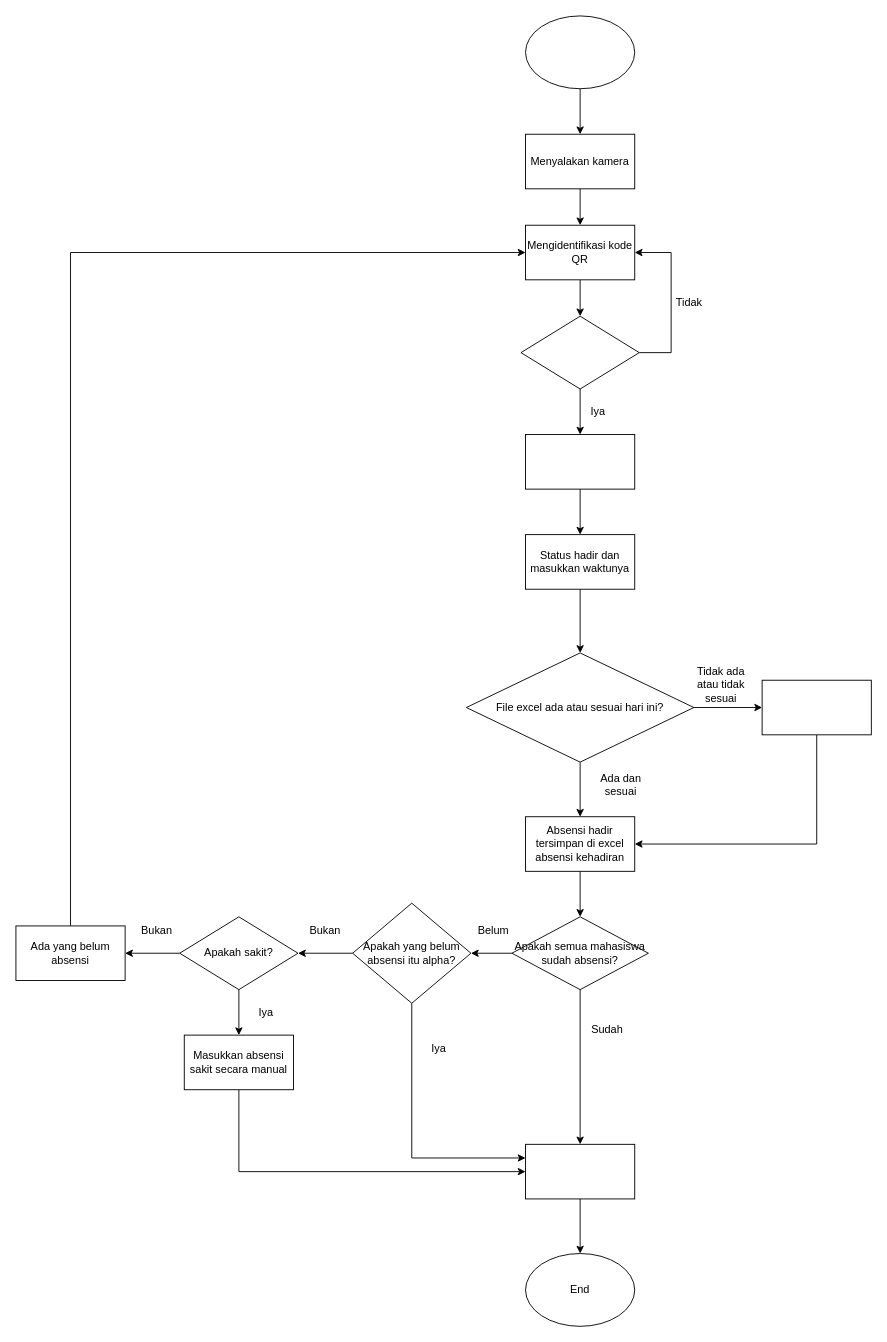
The diagram is 887 pixels wide and 1342 high, and some of its shapes have lost their labels. Here are the shapes that lost their labels. From the top down, the centre of each, then its label:
[580,52]: Start
[579,352]: Apakah QR code sesuai?
[580,461]: Mengeluarkan suara beepy dan output terminal "Berhasil hooray"
[816,707]: Buat filenya
[580,1171]: Tekan close button
